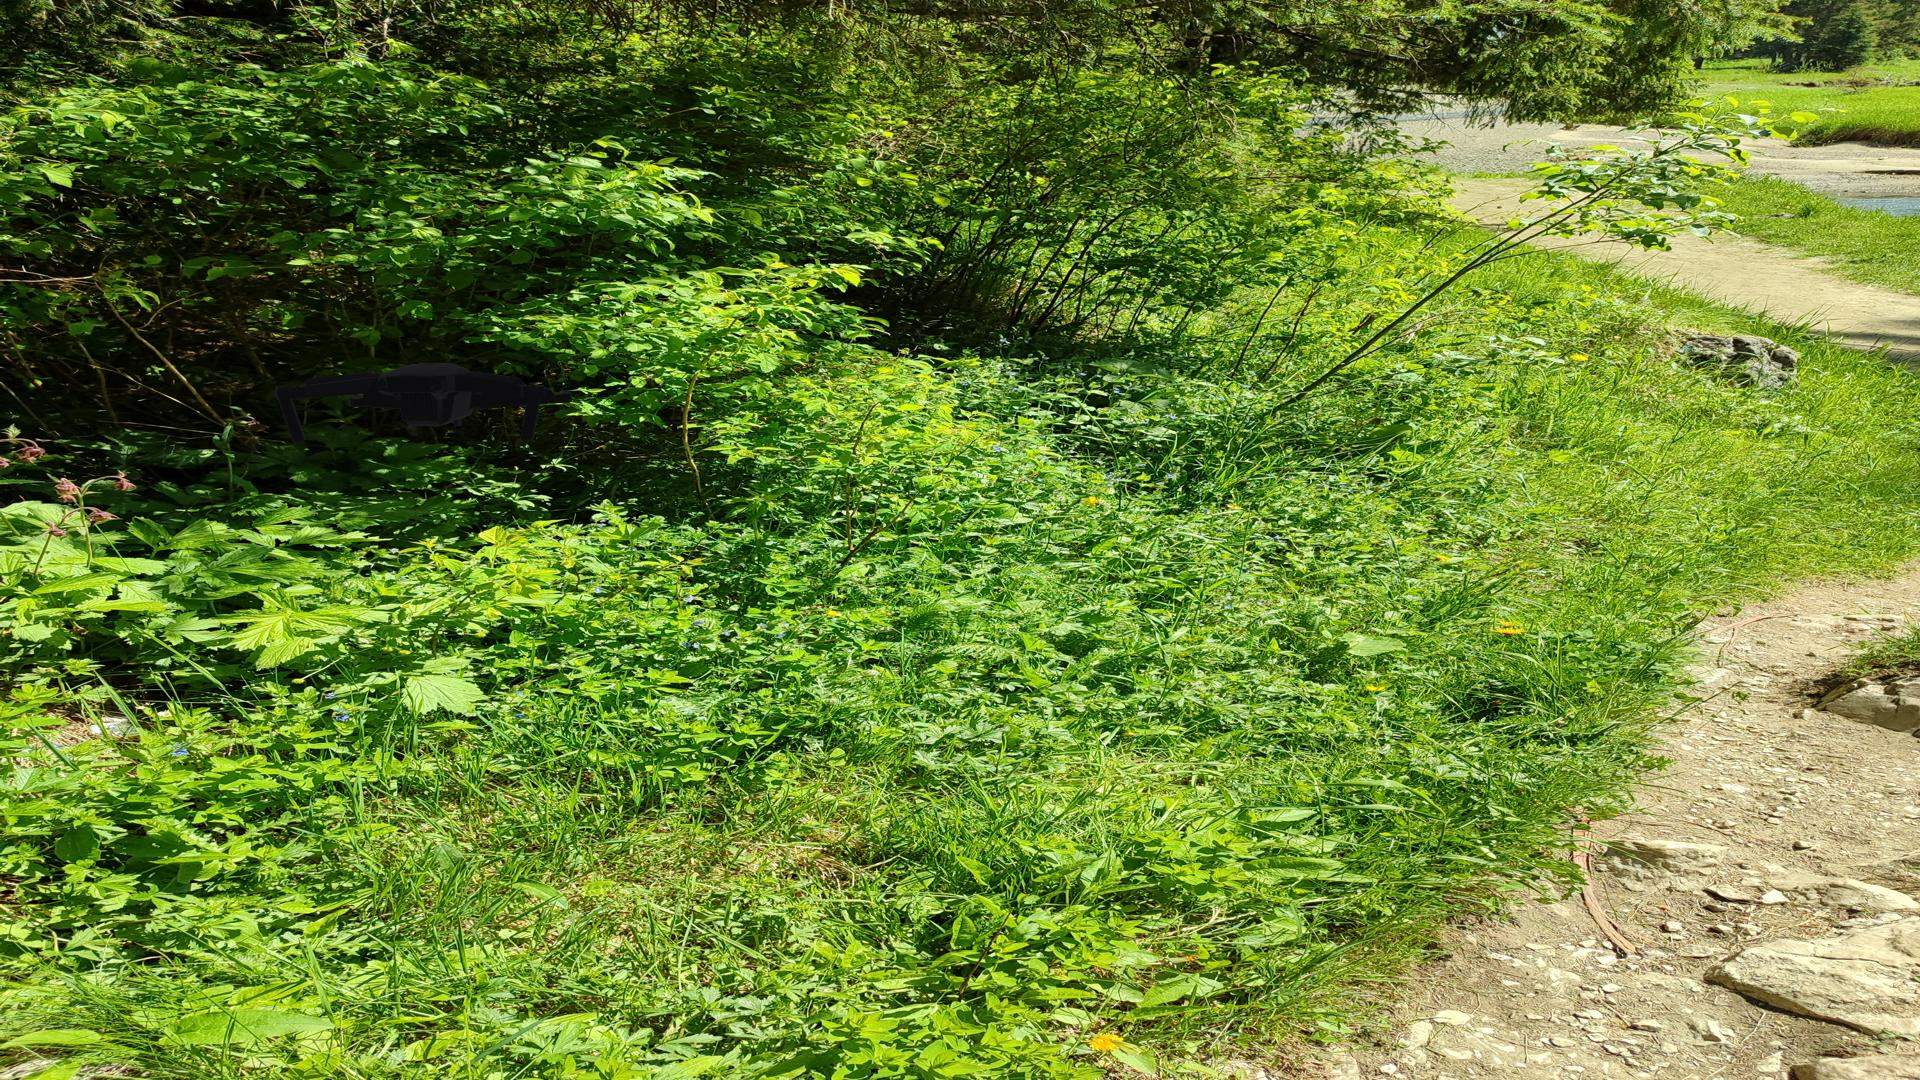nature: (306, 323, 554, 463)
